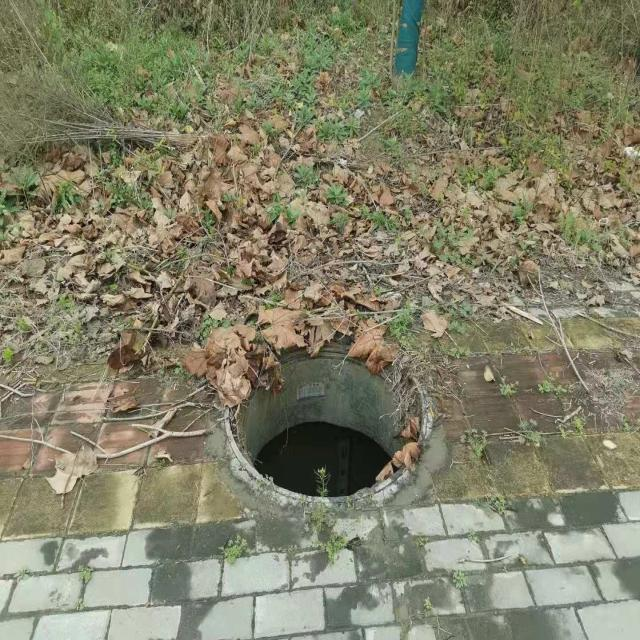Uncovered: (223, 335, 429, 496)
